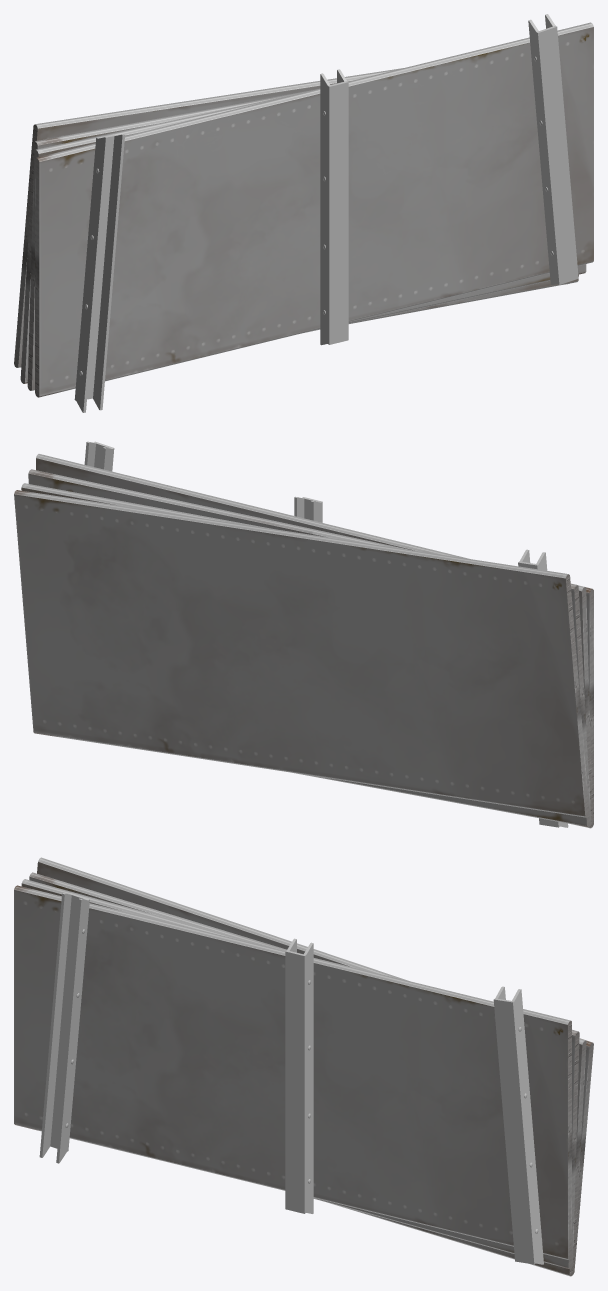
The model's file is PanelStack.FBX.
3 renders of one model, top to bottom at view 1: azimuth 30°, elevation 25°; view 2: azimuth 150°, elevation 25°; view 3: azimuth 330°, elevation 25°, orthographic.
Parts seen in each view (by area): view 1: PanelStack_LOD0; view 2: PanelStack_LOD0; view 3: PanelStack_LOD0.
Boxes of the visible parts, bbox=[...] form: PanelStack_LOD0: bbox=[14, 14, 593, 412]; PanelStack_LOD0: bbox=[14, 441, 593, 828]; PanelStack_LOD0: bbox=[14, 857, 593, 1276].
Size of what is drawn, in the model's own units: 15.74 by 7.59 by 1.25.
